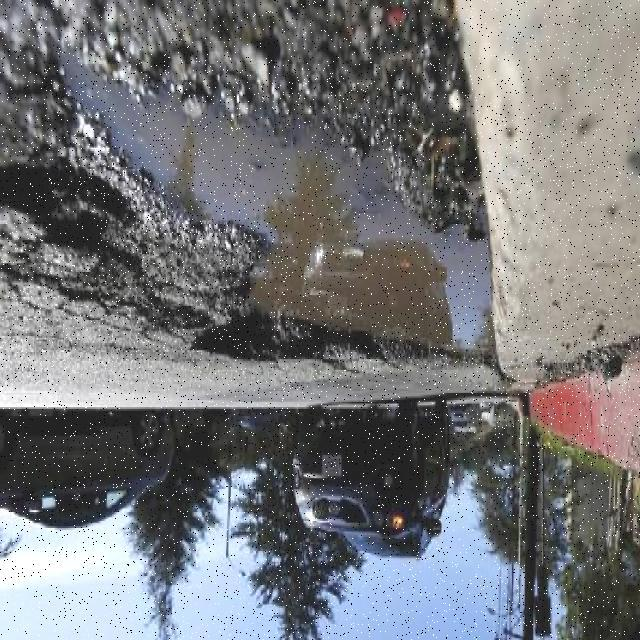Pothole: (0, 0, 501, 370)
